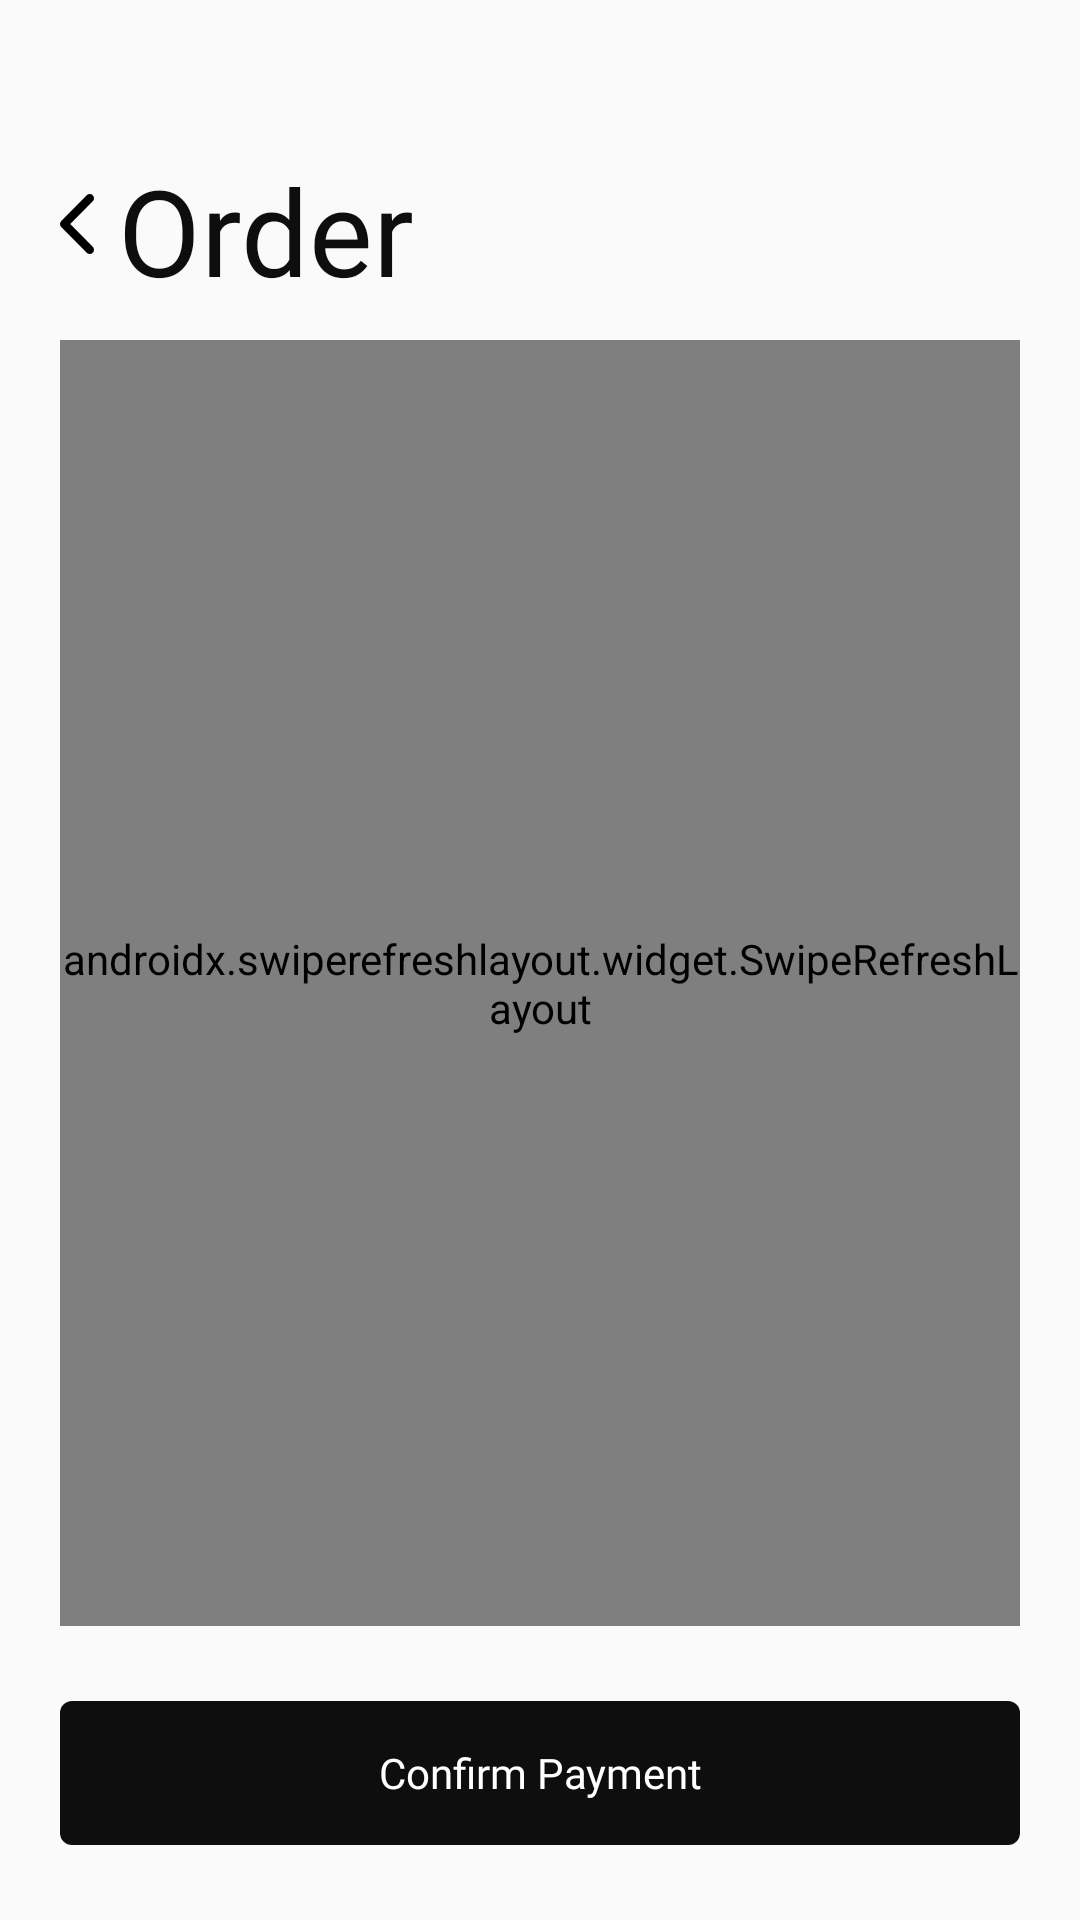

Named icons in this screenshot (1080w x 1920h) and their centers, [x,y]:
leftarrow figma: [77,224]
